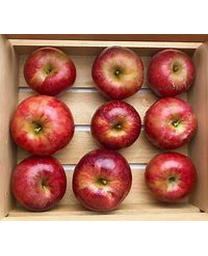apple: (10, 95, 74, 155), (72, 149, 131, 212), (10, 154, 65, 210), (143, 96, 197, 149), (91, 45, 143, 99), (23, 47, 76, 97), (144, 152, 197, 202), (90, 100, 140, 150), (146, 49, 195, 97)
